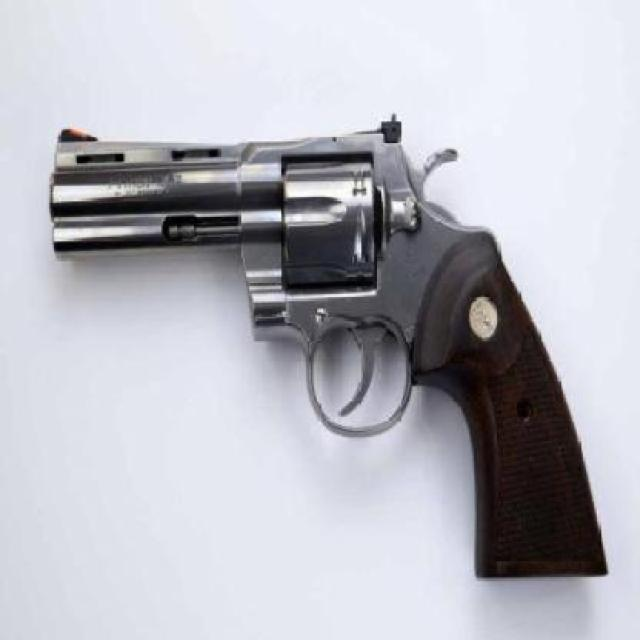gun: (49, 128, 616, 590)
